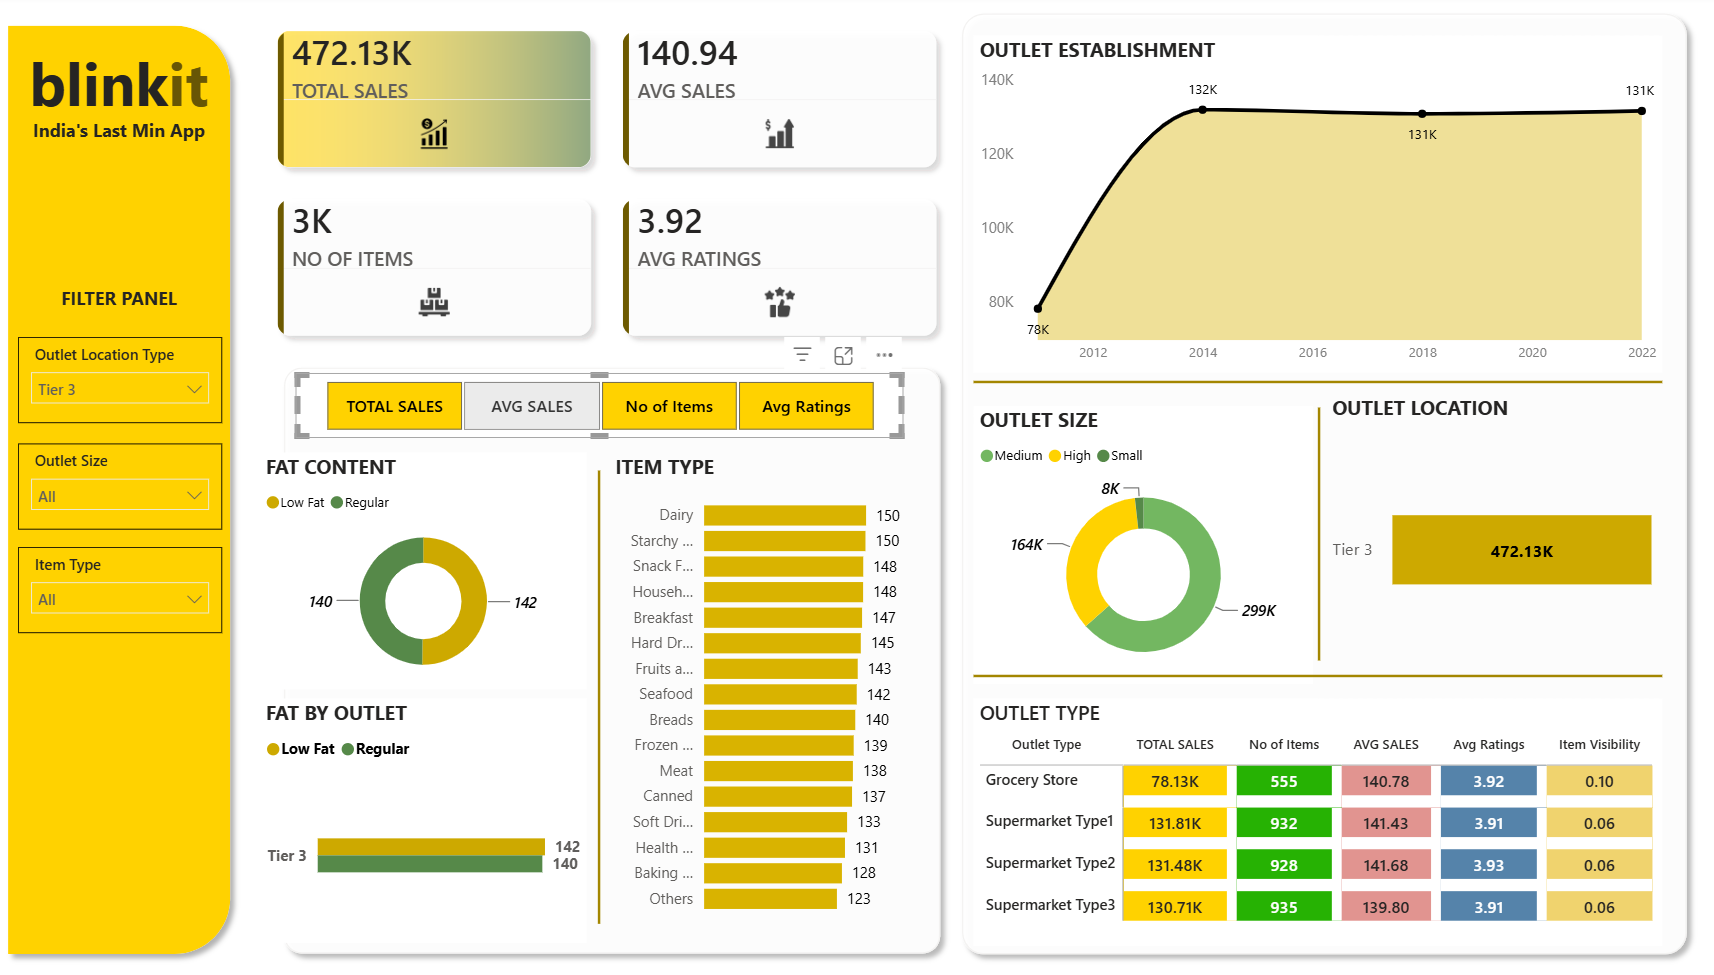

The dashboard page shown, as its layout file describes it:
{"tool":"powerbi","page":{"name":"Page 1","canvas":[1400,800],"ordinal":0},"visuals":[{"type":"shape","box":[0,15.7,198.6,772.9],"z":0},{"type":"textbox","box":[10,32.9,178.6,108.6],"z":1000},{"type":"textbox","box":[0,94.3,198.6,37.1],"z":2000},{"type":"cardVisual","fields":{"Data":["BlinkIT Grocery Data.TOTAL SALES","BlinkIT Grocery Data.AVG SALES","BlinkIT Grocery Data.No of Items","BlinkIT Grocery Data.Avg Ratings"]},"box":[198.6,0,595.7,307.1],"z":3000},{"type":"shape","box":[224.3,294.3,551.4,494.3],"z":4000},{"type":"donutChart","title":"FAT CONTENT","fields":{"Y":["BlinkIT Grocery Data.No of Items"],"Category":["BlinkIT Grocery Data.Item Fat Content"]},"box":[212.9,371.4,265.7,192.9],"z":5000},{"type":"slicer","fields":{"Values":["Metrics.Metrics"]},"box":[242.9,307.1,494.3,52.9],"z":6000},{"type":"clusteredBarChart","title":"FAT BY OUTLET","fields":{"Y":["BlinkIT Grocery Data.No of Items"],"Category":["BlinkIT Grocery Data.Outlet Location Type"],"Series":["BlinkIT Grocery Data.Item Fat Content"]},"box":[212.9,571.4,265.7,198.6],"z":7000},{"type":"shape","box":[478.6,387.1,22.9,368.6],"z":8000},{"type":"barChart","title":"ITEM TYPE","fields":{"Y":["BlinkIT Grocery Data.No of Items"],"Category":["BlinkIT Grocery Data.Item Type"]},"box":[497.1,371.4,257.1,384.3],"z":9000},{"type":"shape","box":[775.7,5.7,607.1,782.9],"z":10000},{"type":"lineChart","title":"OUTLET ESTABLISHMENT","fields":{"Category":["BlinkIT Grocery Data.Outlet Establishment Year"],"Y":["BlinkIT Grocery Data.TOTAL SALES"]},"box":[794.3,32.9,560,274.3],"z":11000},{"type":"shape","box":[794.3,294.3,560,41.4],"z":12000},{"type":"donutChart","title":"OUTLET SIZE","fields":{"Y":["BlinkIT Grocery Data.TOTAL SALES"],"Category":["BlinkIT Grocery Data.Outlet Size"]},"box":[794.3,334.3,275.7,225.7],"z":13000},{"type":"shape","box":[1062.9,335.7,22.9,205.7],"z":14000},{"type":"funnel","title":"OUTLET LOCATION","fields":{"Y":["Sum(BlinkIT Grocery Data.Sales)"],"Category":["BlinkIT Grocery Data.Outlet Location Type"]},"box":[1080,324.3,274.3,230],"z":15000},{"type":"shape","box":[794.3,532.9,560,41.4],"z":16000},{"type":"pivotTable","title":"OUTLET TYPE","fields":{"Rows":["BlinkIT Grocery Data.Outlet Type"],"Values":["BlinkIT Grocery Data.TOTAL SALES","BlinkIT Grocery Data.No of Items","BlinkIT Grocery Data.AVG SALES","BlinkIT Grocery Data.Avg Ratings","Avg(BlinkIT Grocery Data.Item Visibility)"]},"box":[794.3,571.4,560,201.4],"z":17000},{"type":"slicer","fields":{"Values":["BlinkIT Grocery Data.Outlet Location Type"]},"box":[17.1,278.6,165.7,70],"z":18000},{"type":"slicer","fields":{"Values":["BlinkIT Grocery Data.Outlet Size"]},"box":[17.1,364.3,165.7,70],"z":19000},{"type":"slicer","fields":{"Values":["BlinkIT Grocery Data.Item Type"]},"box":[17.1,448.6,165.7,70],"z":20000},{"type":"textbox","box":[0,230,198.6,48.6],"z":21000}]}

Visuals, with their boxes in screenshot pixels (x1, y1, x2, y2), scaled from the page's 1400x800 canvas onto the 1714x975 screenshot:
shape: locate(0, 19, 243, 961)
textbox: locate(12, 40, 231, 172)
textbox: locate(0, 115, 243, 160)
cardVisual - BlinkIT Grocery Data.TOTAL SALES x BlinkIT Grocery Data.AVG SALES: locate(243, 0, 972, 374)
shape: locate(275, 359, 950, 961)
"FAT CONTENT" donutChart: locate(261, 453, 586, 688)
slicer - Metrics.Metrics: locate(297, 374, 903, 439)
"FAT BY OUTLET" clusteredBarChart: locate(261, 696, 586, 938)
shape: locate(586, 472, 614, 921)
"ITEM TYPE" barChart: locate(609, 453, 923, 921)
shape: locate(950, 7, 1693, 961)
"OUTLET ESTABLISHMENT" lineChart: locate(972, 40, 1658, 374)
shape: locate(972, 359, 1658, 409)
"OUTLET SIZE" donutChart: locate(972, 407, 1310, 682)
shape: locate(1301, 409, 1329, 660)
"OUTLET LOCATION" funnel: locate(1322, 395, 1658, 676)
shape: locate(972, 649, 1658, 700)
"OUTLET TYPE" pivotTable: locate(972, 696, 1658, 942)
slicer - BlinkIT Grocery Data.Outlet Location Type: locate(21, 340, 224, 425)
slicer - BlinkIT Grocery Data.Outlet Size: locate(21, 444, 224, 529)
slicer - BlinkIT Grocery Data.Item Type: locate(21, 547, 224, 632)
textbox: locate(0, 280, 243, 340)
